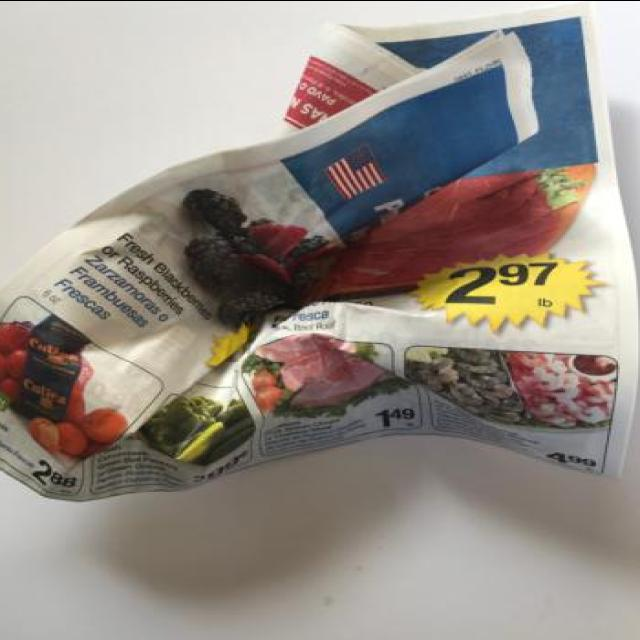kertas: (0, 0, 638, 502)
